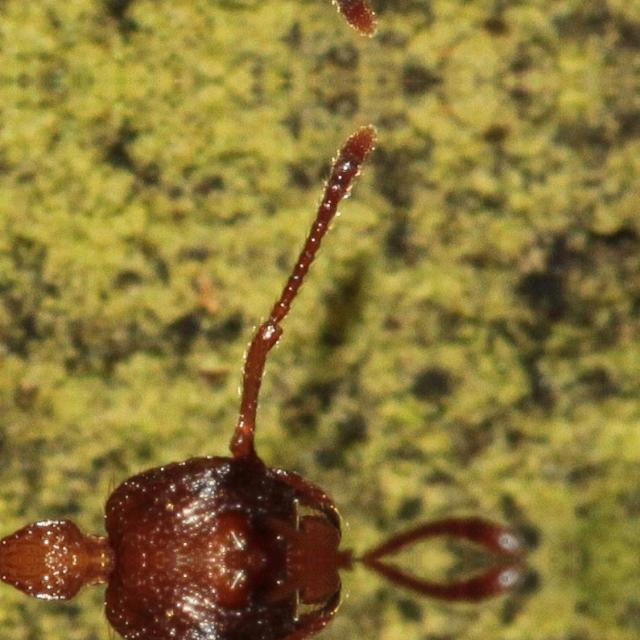Myrmica: (0, 138, 532, 560)
